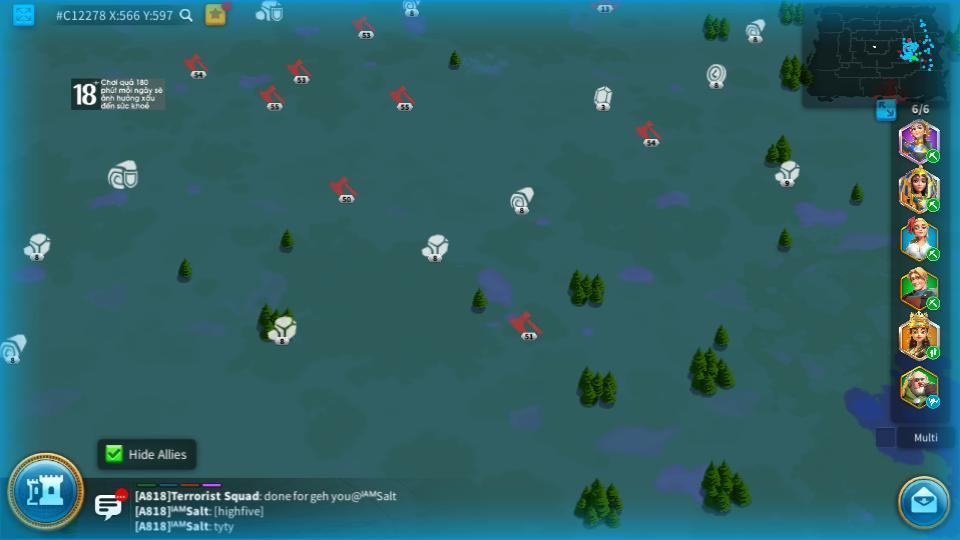gem-z-out: (593, 86, 614, 111)
march_farming: (924, 197, 939, 212)
march_idle: (925, 396, 942, 408)
march_marching: (924, 345, 939, 359), (925, 148, 941, 161)
